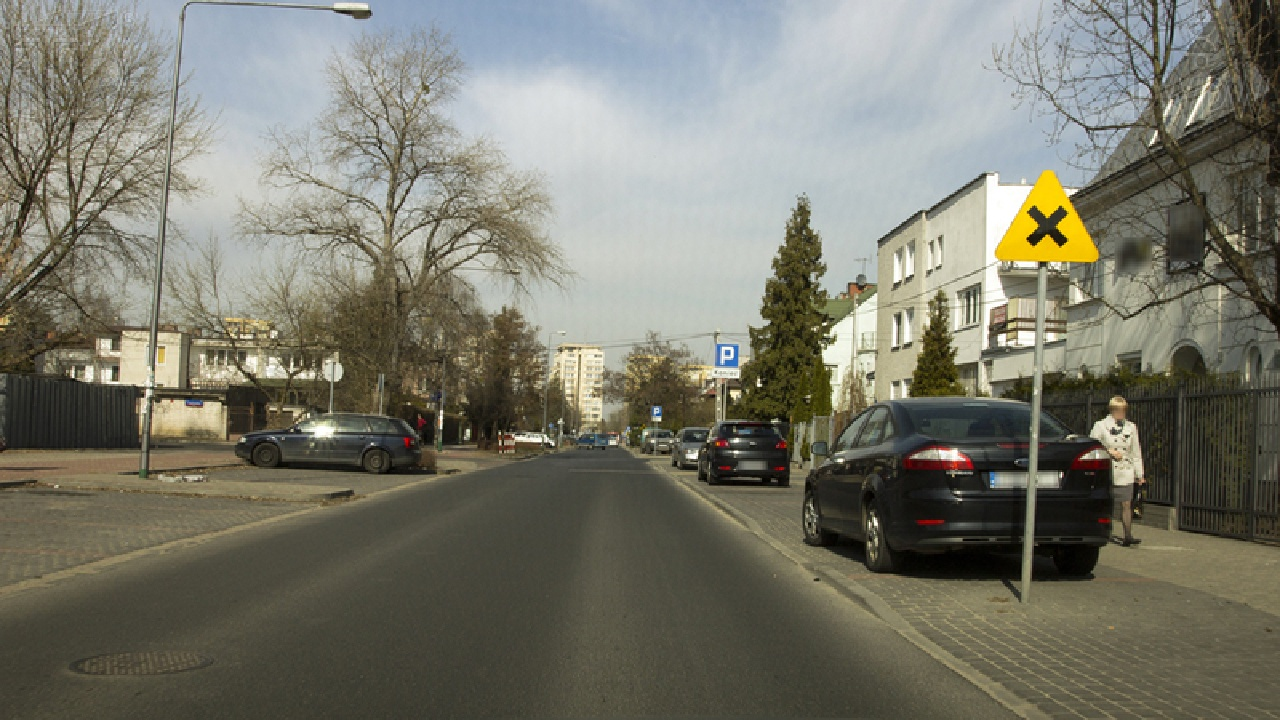A5: (995, 169, 1101, 263)
